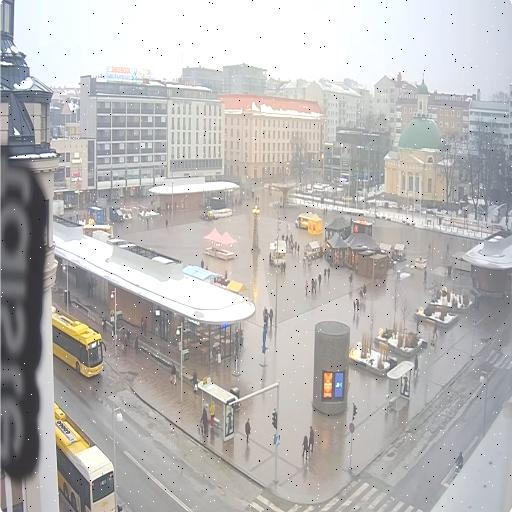bus: (54, 402, 115, 511), (52, 310, 104, 376)
